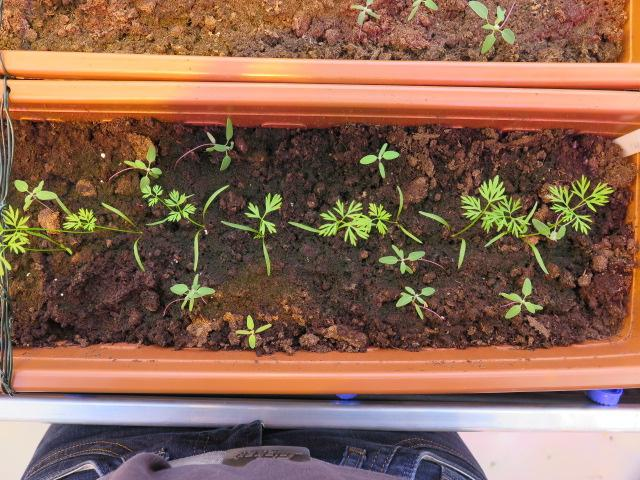weed: (494, 273, 544, 324), (164, 269, 219, 314), (386, 282, 439, 325), (354, 137, 401, 180), (231, 308, 273, 352), (372, 242, 426, 276)
